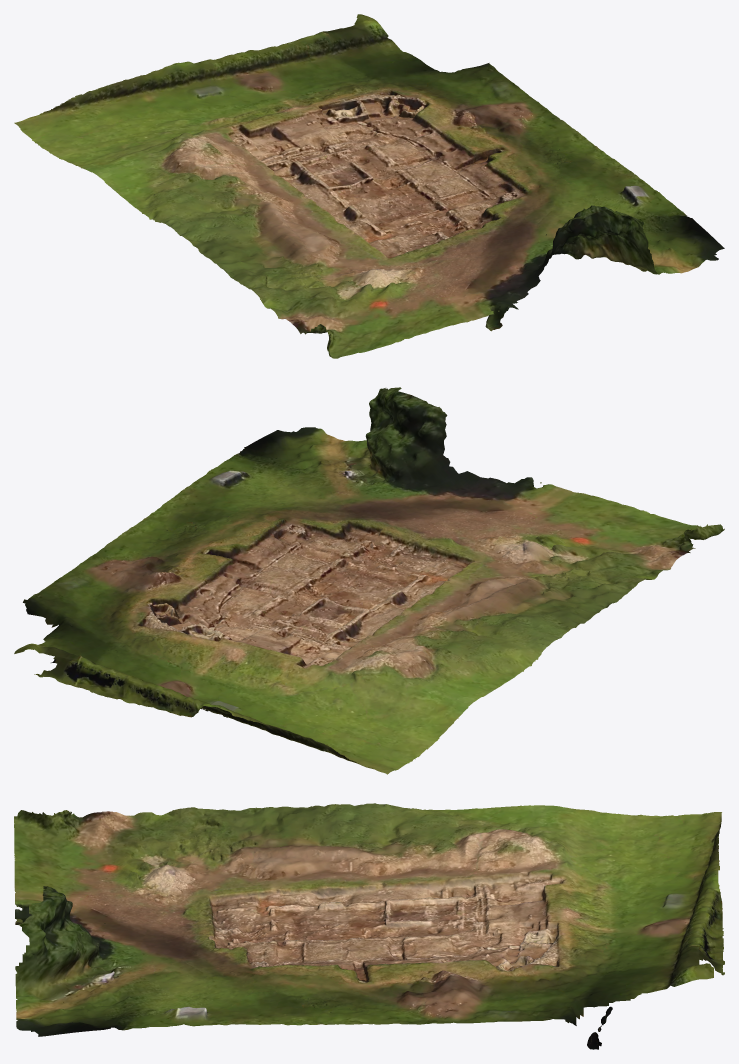
Rendered from fort_o.glb.
The picture shows the model from 3 angles, top to bottom: view 1: azimuth 30°, elevation 25°; view 2: azimuth 150°, elevation 25°; view 3: azimuth 270°, elevation 25°; orthographic projection. The views are drawn at different scales.
Parts seen in each view (by area): view 1: Object_2; view 2: Object_2; view 3: Object_2.
Part boxes in pixels (x1,y1,x2,y2): Object_2: (14, 14, 724, 358); Object_2: (14, 387, 724, 774); Object_2: (14, 803, 724, 1049).
Size of the model in its own units: 15.13 by 3.35 by 20.32.
Materials: 1 (1 with a texture image).
